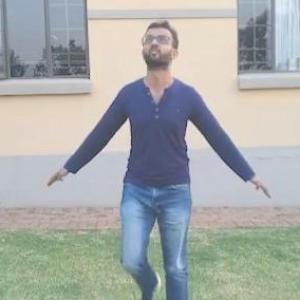land: (43, 7, 299, 295)
